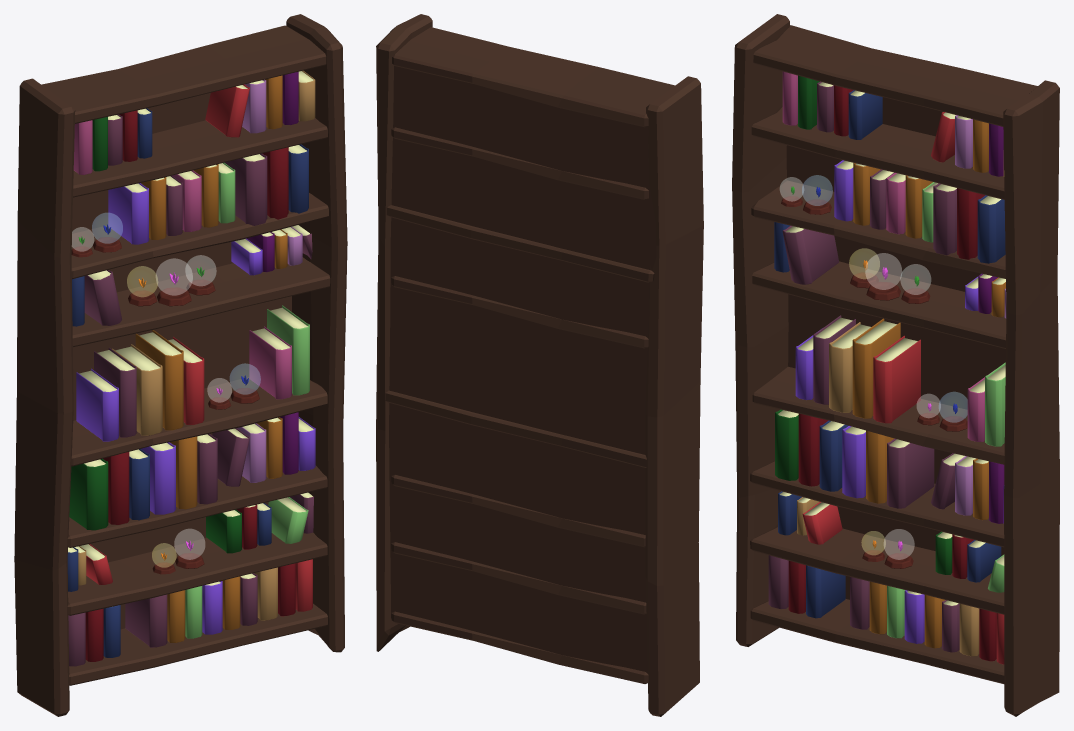
Rendered from bookshelf2.fbx.
3 views of the same model, side by side, from view 1: azimuth 30°, elevation 25°; view 2: azimuth 150°, elevation 25°; view 3: azimuth 330°, elevation 25° (orthographic).
Visible parts, largest first — view 1: Book.346; view 2: Book.346; view 3: Book.346.
Part boxes in pixels (<box>): Book.346: <box>14,14,347,716</box>; Book.346: <box>376,14,703,716</box>; Book.346: <box>732,14,1059,716</box>.
Bounding box in the file's own units: 297 × 596 × 81.65.
